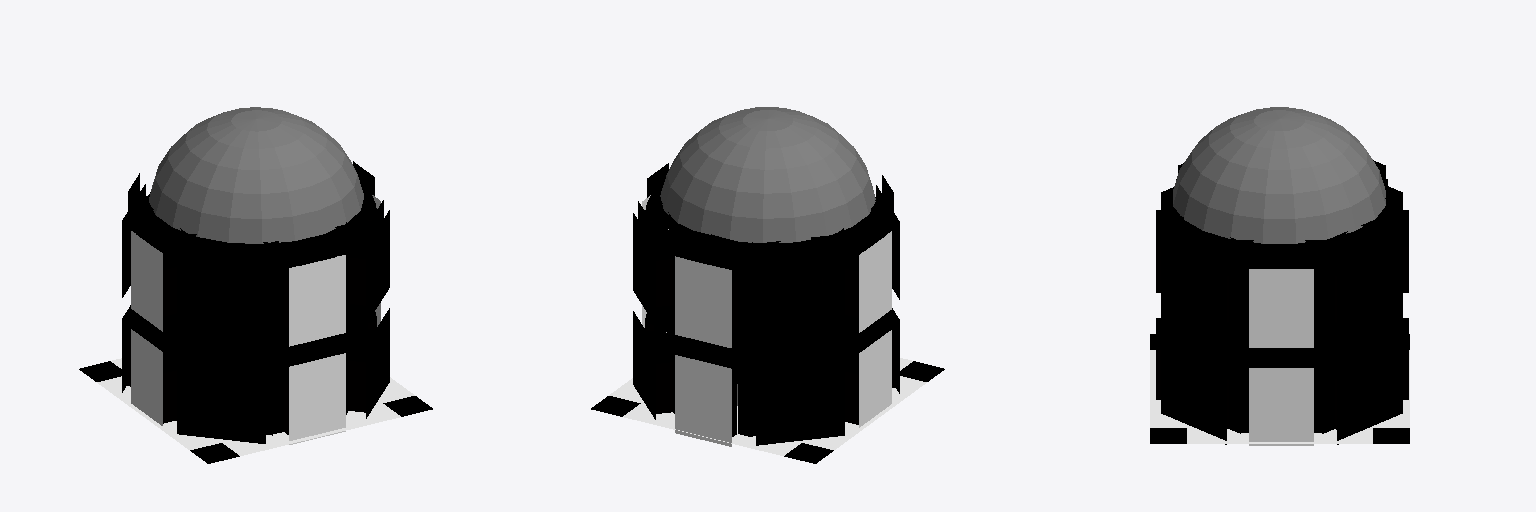
The model's file is internals.obj.
3 views of the same model, side by side, from view 1: azimuth 30°, elevation 25°; view 2: azimuth 150°, elevation 25°; view 3: azimuth 270°, elevation 25° (orthographic).
Visible parts, largest first — view 1: INT__dome_tiles_2, INT__material__3, INT__material__4, INT__tex38, INT__tex37, INT__material__2, INT__tex15, INT__tex12, INT__tex35, INT__tex14, INT__tex13, INT__tex32 (+28 smaller); view 2: INT__dome_tiles_2, INT__material__3, INT__material__4, INT__tex37, INT__tex38, INT__material__2, INT__tex15, INT__tex12, INT__tex35, INT__tex14, INT__tex13, INT__tex32 (+28 smaller); view 3: INT__dome_tiles_2, INT__material__4, INT__tex37, INT__tex38, INT__tex15, INT__tex32, INT__tex35, INT__material__3, INT__tex23, INT__tex12, INT__tex11, INT__tex07 (+28 smaller).
Part boxes in pixels (left/top/right/bottom): INT__dome_tiles_2: left=149, top=107, right=363, bottom=243; INT__material__3: left=127, top=220, right=376, bottom=434; INT__material__4: left=127, top=183, right=381, bottom=384; INT__tex38: left=128, top=170, right=383, bottom=266; INT__tex37: left=134, top=161, right=377, bottom=268; INT__material__2: left=79, top=361, right=432, bottom=463; INT__tex15: left=122, top=308, right=389, bottom=381; INT__tex12: left=144, top=268, right=371, bottom=388; INT__tex35: left=122, top=209, right=389, bottom=283; INT__tex14: left=128, top=274, right=383, bottom=383; INT__tex13: left=155, top=326, right=377, bottom=386; INT__tex32: left=140, top=184, right=371, bottom=290; INT__dome_tiles_2: left=660, top=107, right=875, bottom=242; INT__material__3: left=645, top=221, right=894, bottom=436; INT__material__4: left=643, top=184, right=894, bottom=386; INT__tex37: left=644, top=171, right=887, bottom=269; INT__tex38: left=638, top=163, right=893, bottom=267; INT__material__2: left=591, top=361, right=944, bottom=463; INT__tex15: left=633, top=311, right=899, bottom=382; INT__tex12: left=650, top=270, right=844, bottom=390; INT__tex35: left=633, top=210, right=899, bottom=284; INT__tex14: left=638, top=273, right=893, bottom=385; INT__tex13: left=644, top=280, right=855, bottom=387; INT__tex32: left=650, top=185, right=881, bottom=292; INT__dome_tiles_2: left=1173, top=107, right=1385, bottom=243; INT__material__4: left=1156, top=194, right=1408, bottom=378; INT__tex37: left=1178, top=160, right=1385, bottom=268; INT__tex38: left=1194, top=231, right=1369, bottom=268; INT__tex15: left=1210, top=353, right=1353, bottom=385; INT__tex32: left=1161, top=186, right=1402, bottom=279; INT__tex35: left=1210, top=255, right=1353, bottom=287; INT__material__3: left=1156, top=207, right=1408, bottom=429; INT__tex23: left=1210, top=315, right=1353, bottom=346; INT__tex12: left=1161, top=332, right=1402, bottom=377; INT__tex11: left=1210, top=373, right=1353, bottom=405; INT__tex07: left=1210, top=394, right=1353, bottom=424.
Size of the model in its own units: 124 by 144 by 124.